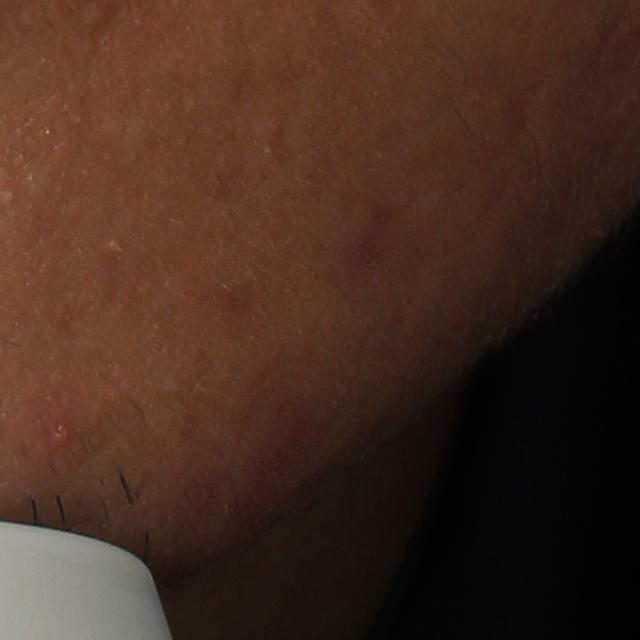papule: (38, 415, 75, 450)
